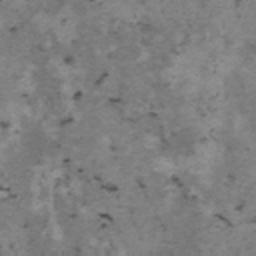Oxide scale of temperature system: (61, 157, 244, 256), (0, 56, 122, 129), (0, 183, 29, 230), (8, 24, 18, 35), (147, 111, 159, 120)
